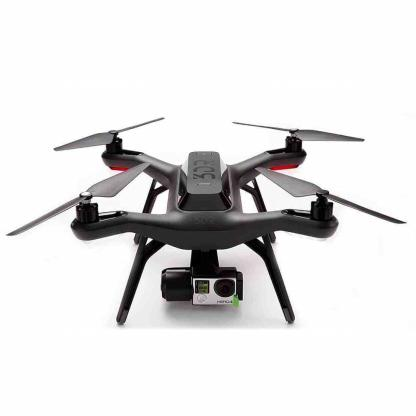drone: (16, 106, 413, 277)
